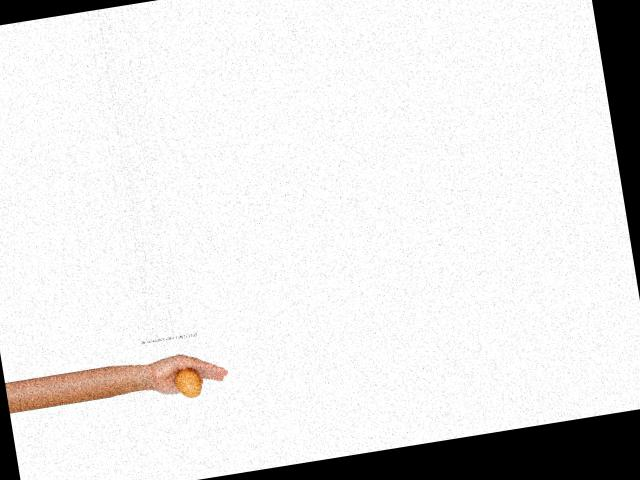egg: (174, 365, 204, 399)
